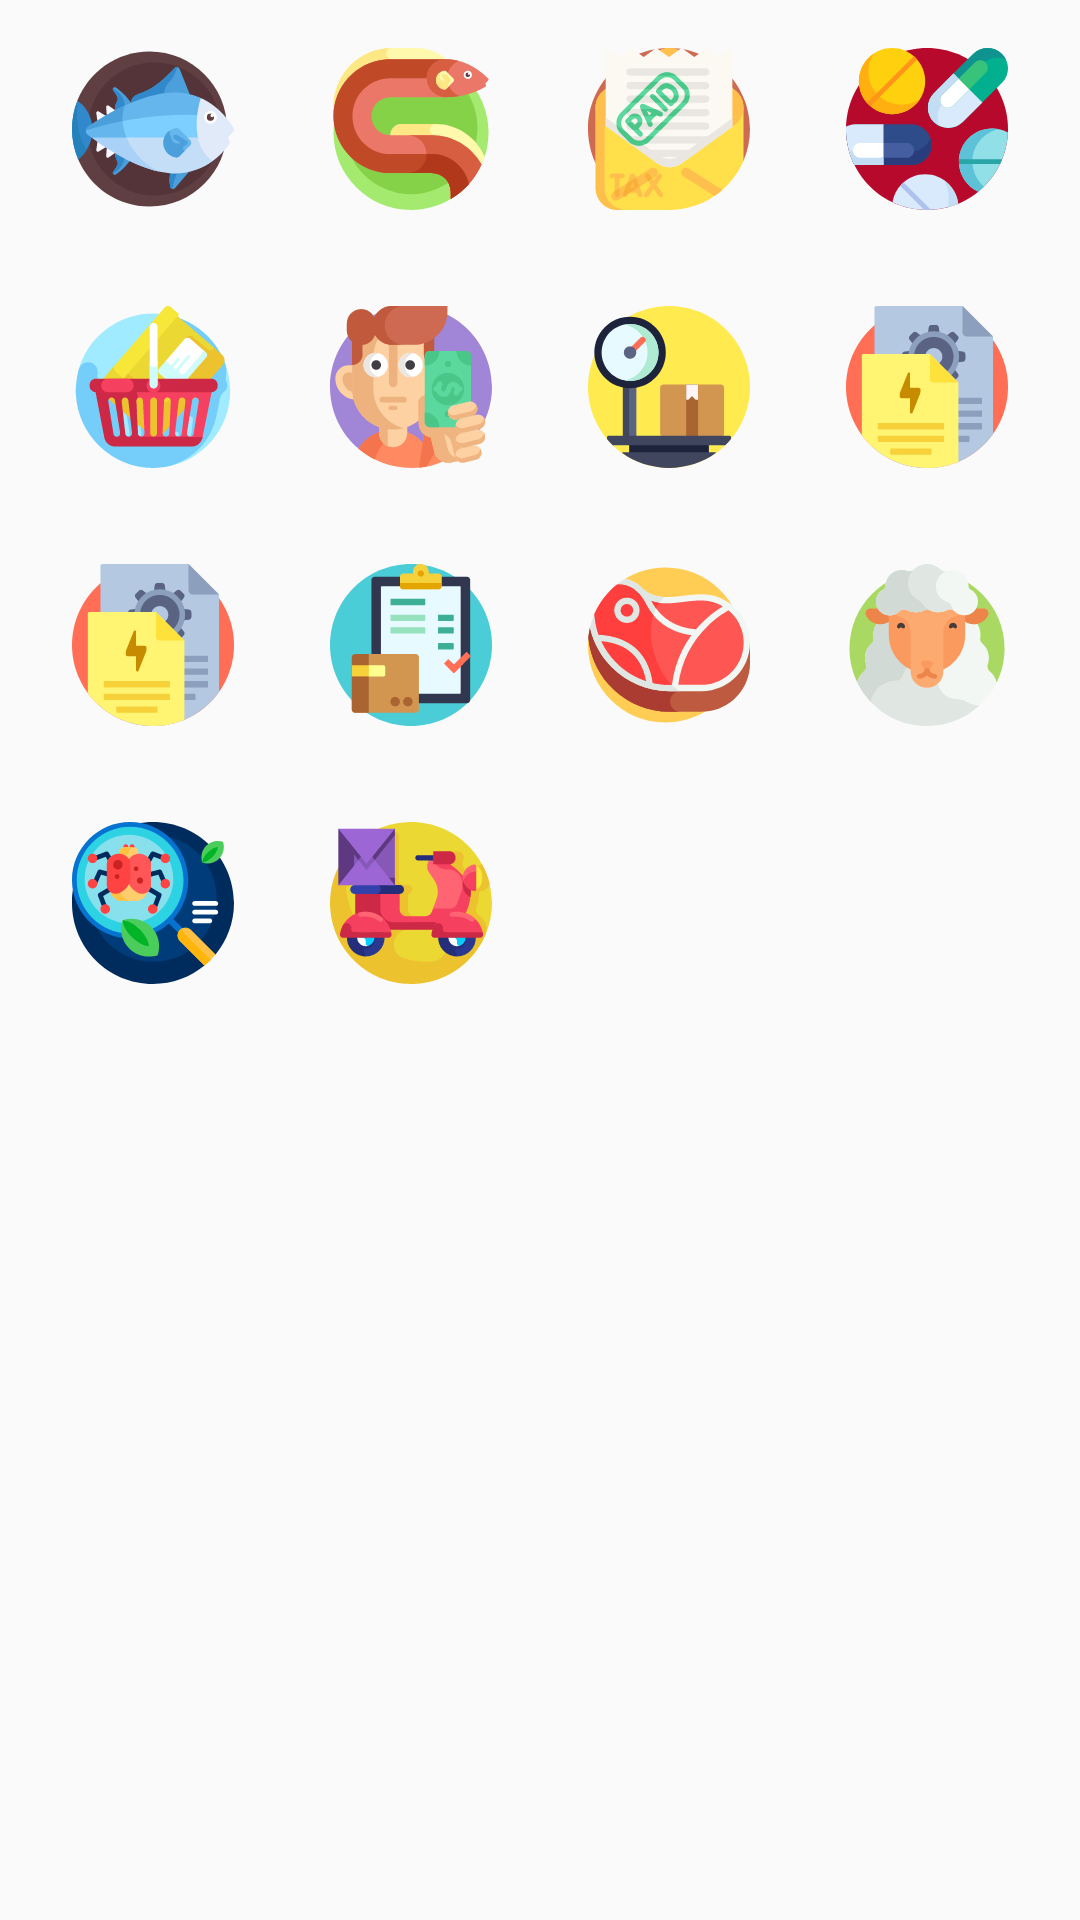

Screen size 1080w x 1920h. Icon name, then its center in pixels as [x,y]:
delivery: [411,903]
documents: [927,387], [153,645]
eel: [411,129]
invoice: [411,645]
loupe: [153,903]
meat: [669,645]
pills: [927,129]
pushcart: [152,387]
sheep: [927,645]
tuna: [153,129]
weight: [669,387]
